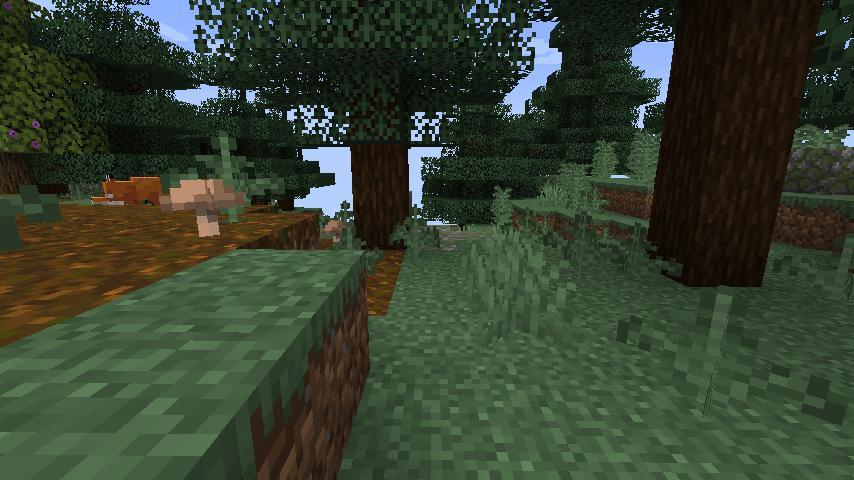fox: (88, 171, 173, 212)
